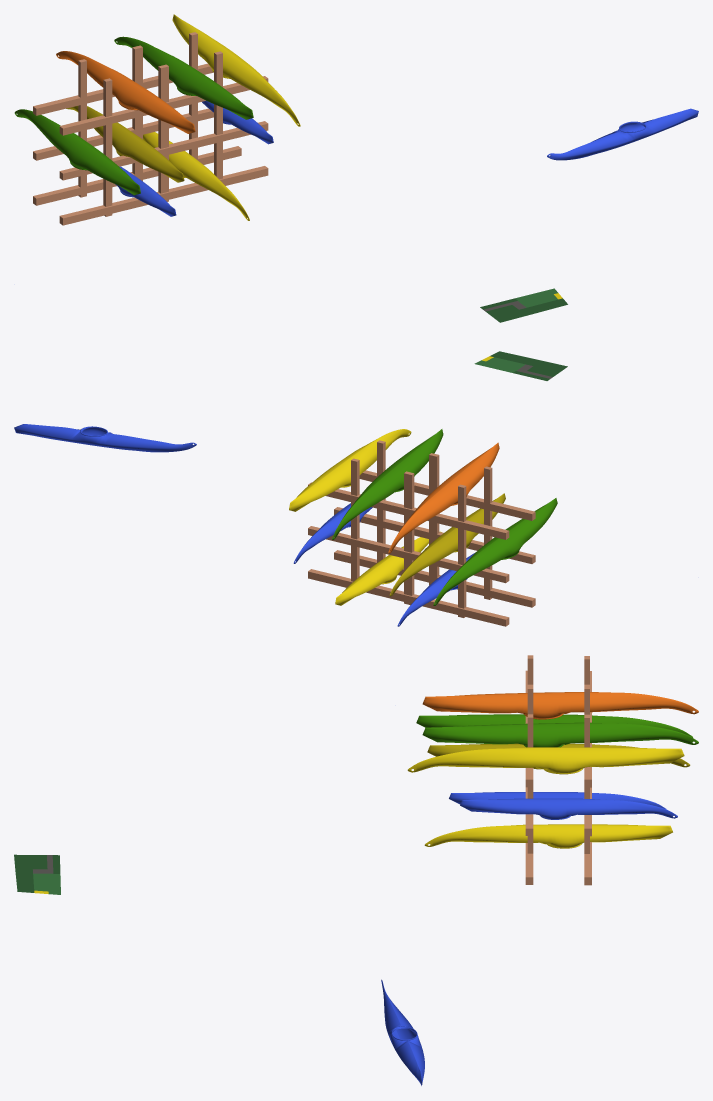
Rendered from dingyrack.glb.
3 views of the same model, one above another, from view 1: azimuth 30°, elevation 25°; view 2: azimuth 150°, elevation 25°; view 3: azimuth 270°, elevation 25° (orthographic). The views are drawn at different scales.
Parts seen in each view (by area): view 1: Plane.003, Plane.001, Cylinder.005, Cylinder.006, Cylinder.007, Cylinder.001, Cylinder.008, Cylinder.003, Cylinder.002, Cylinder.004, Plane.004; view 2: Plane.001, Plane.003, Cylinder.007, Cylinder.008, Cylinder.005, Cylinder.006, Cylinder.001, Cylinder.003, Cylinder.004, Cylinder.002, Plane.004; view 3: Cylinder.001, Cylinder.006, Cylinder.005, Cylinder.004, Cylinder.002, Cylinder.007, Cylinder.008, Plane.004, Plane.003, Plane.001, Cylinder.003.
Part boxes in pixels (bbox=[...]): Plane.003: bbox=[59, 51, 268, 225]; Plane.001: bbox=[33, 32, 241, 205]; Cylinder.005: bbox=[114, 36, 253, 119]; Cylinder.006: bbox=[56, 51, 195, 133]; Cylinder.007: bbox=[14, 109, 140, 195]; Cylinder.001: bbox=[172, 14, 300, 126]; Cylinder.008: bbox=[547, 108, 698, 160]; Cylinder.003: bbox=[66, 106, 184, 182]; Cylinder.002: bbox=[143, 132, 249, 220]; Cylinder.004: bbox=[115, 100, 273, 216]; Plane.004: bbox=[480, 288, 567, 322]; Plane.001: bbox=[308, 458, 509, 626]; Plane.003: bbox=[334, 440, 535, 607]; Cylinder.007: bbox=[433, 498, 557, 605]; Cylinder.008: bbox=[14, 424, 196, 452]; Cylinder.005: bbox=[332, 429, 443, 539]; Cylinder.006: bbox=[388, 442, 499, 553]; Cylinder.001: bbox=[289, 429, 411, 511]; Cylinder.003: bbox=[389, 493, 505, 596]; Cylinder.004: bbox=[293, 503, 475, 626]; Cylinder.002: bbox=[335, 531, 441, 605]; Plane.004: bbox=[474, 351, 567, 380]; Cylinder.001: bbox=[407, 747, 684, 774]; Cylinder.006: bbox=[422, 692, 698, 719]; Cylinder.005: bbox=[422, 722, 698, 747]; Cylinder.004: bbox=[449, 792, 677, 819]; Cylinder.002: bbox=[424, 824, 672, 848]; Cylinder.007: bbox=[416, 714, 692, 737]; Cylinder.008: bbox=[381, 979, 424, 1085]; Plane.004: bbox=[14, 854, 60, 894]; Plane.003: bbox=[525, 655, 533, 884]; Plane.001: bbox=[584, 656, 591, 885]; Cylinder.003: bbox=[427, 743, 690, 769].
Size of the model in its own units: 3.9 by 0.723 by 3.06.
